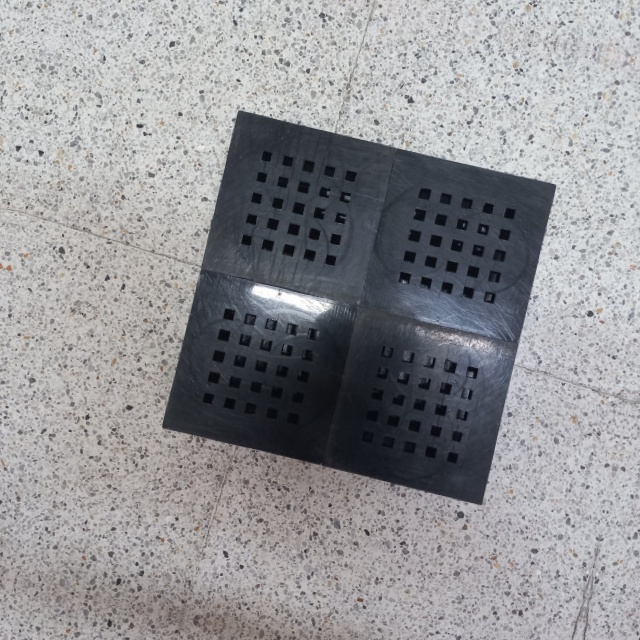pallet: (142, 95, 585, 517)
